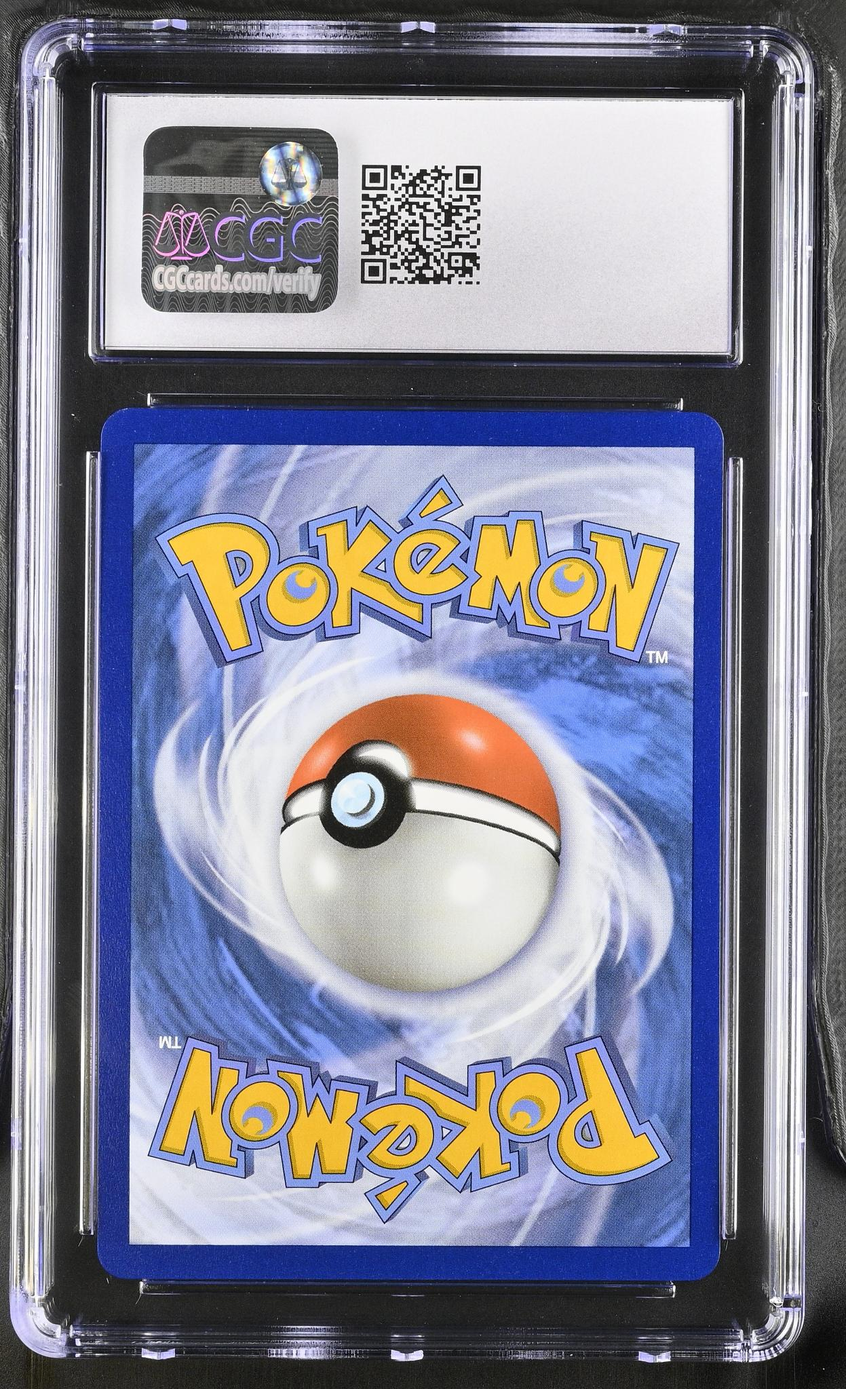card-2UtV: (97, 407, 724, 1281)
